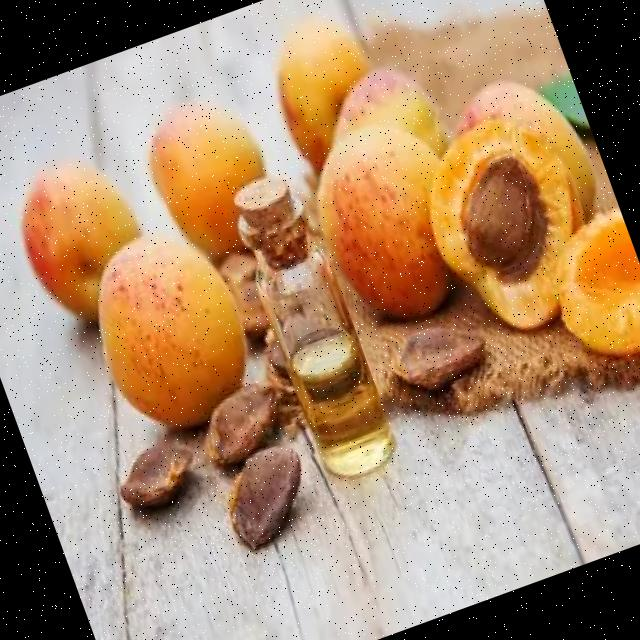Cekirdek: (464, 158, 546, 277), (121, 434, 192, 506)
Kayisi: (98, 236, 242, 427)
